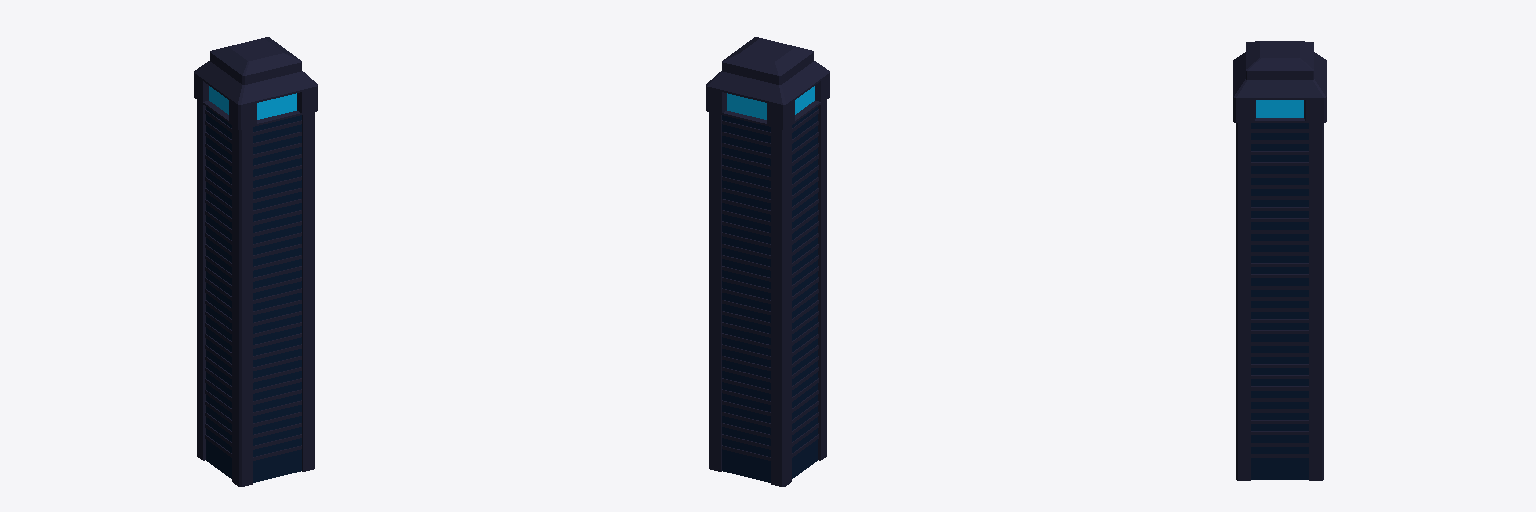
The model's file is building.obj.
3 views of the same model, side by side, from view 1: azimuth 30°, elevation 25°; view 2: azimuth 150°, elevation 25°; view 3: azimuth 270°, elevation 25° (orthographic).
Visible parts, largest first — view 1: Skyscr_04_A; view 2: Skyscr_04_A; view 3: Skyscr_04_A.
Boxes of the visible parts, x1=… form: Skyscr_04_A: x1=194, y1=37, x2=317, y2=486; Skyscr_04_A: x1=706, y1=37, x2=829, y2=486; Skyscr_04_A: x1=1233, y1=41, x2=1326, y2=480.
Bounding box in the file's own units: 0.1978 × 0.9663 × 0.1978.